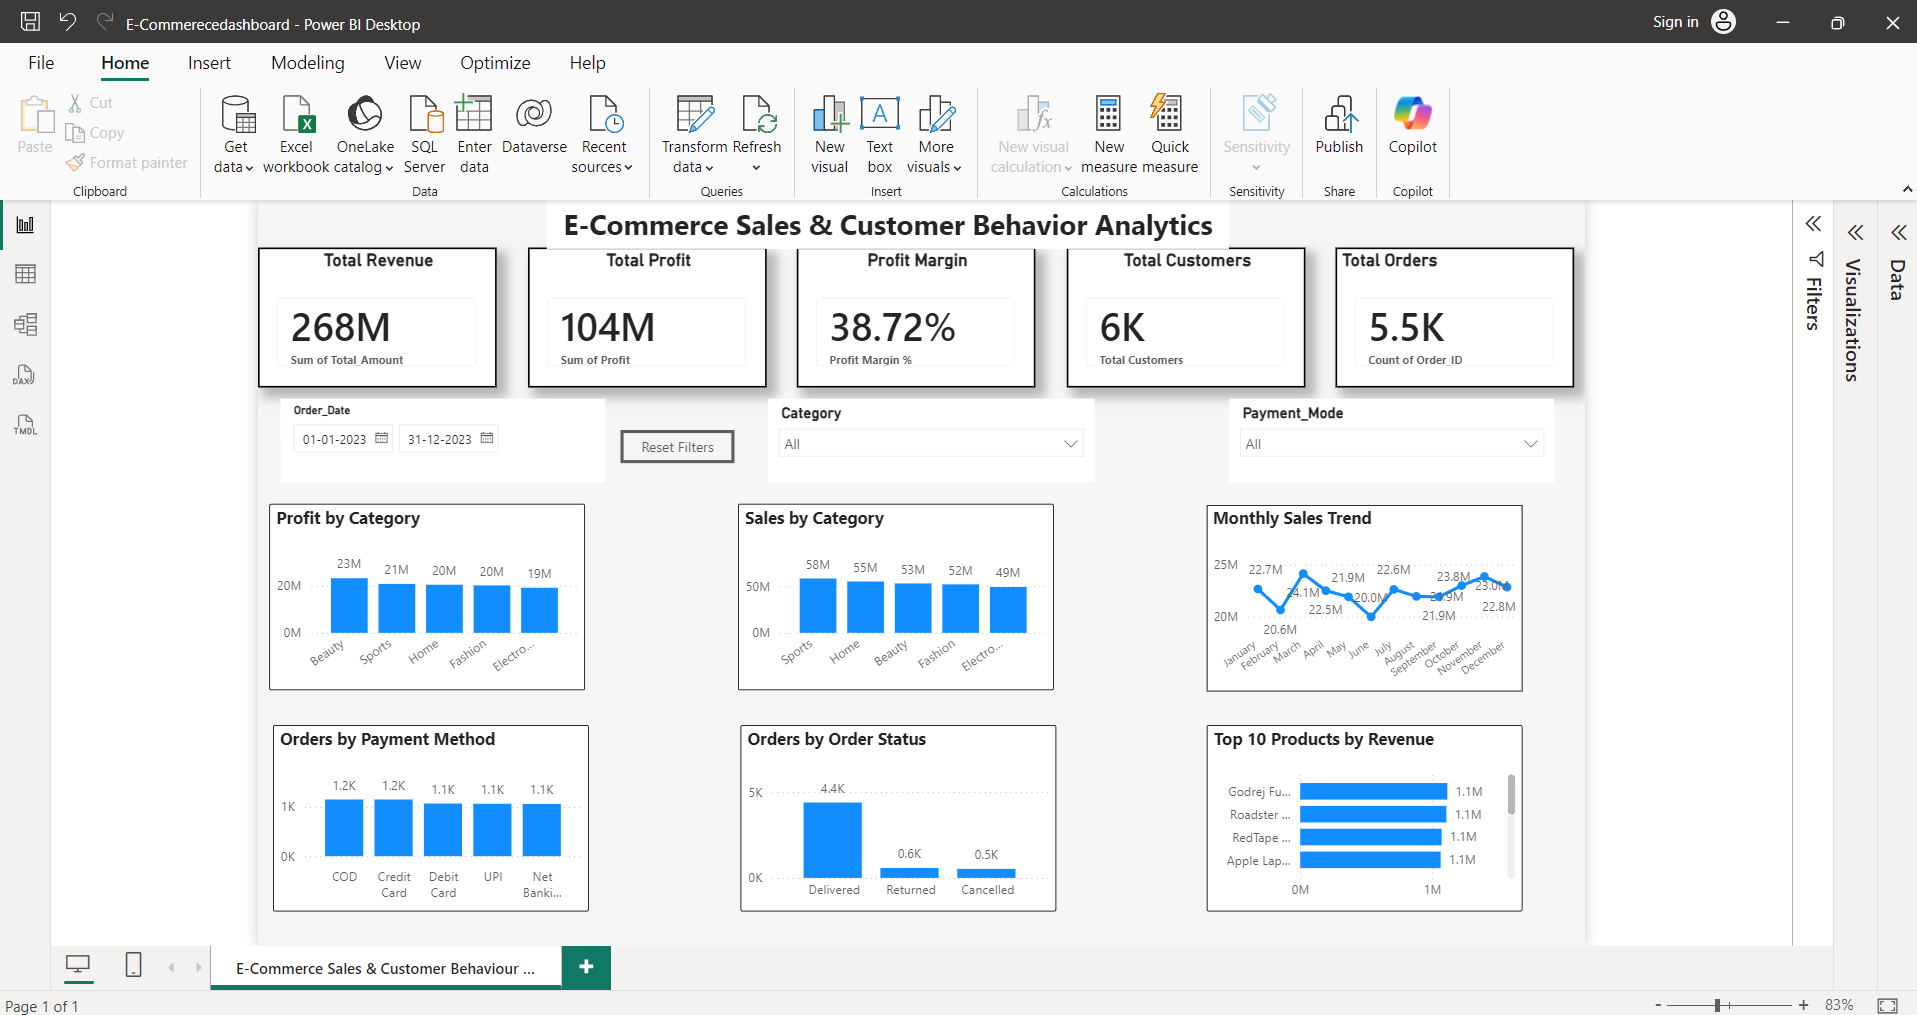

Layout of this report page (visuals, bound fields, positions):
{"tool":"powerbi","page":{"name":"E-Commerce Sales & Customer Behaviour Analytics","canvas":[1280,720],"ordinal":0},"visuals":[{"type":"cardVisual","title":"Total Revenue","fields":{"Data":["Sum(ecommerce_final_data.Total_Amount)"]},"box":[0,45.8,230,135],"z":0},{"type":"cardVisual","title":"Total Profit","fields":{"Data":["Sum(ecommerce_final_data.Profit)"]},"box":[260,45.8,230,135],"z":1000},{"type":"cardVisual","title":"Total Orders","fields":{"Data":["Count(ecommerce_final_data.Order_ID)"]},"box":[1040,45.8,230,135],"z":2000},{"type":"cardVisual","title":"Total Customers","fields":{"Data":["ecommerce_final_data.Total Customers"]},"box":[780,45.8,230,135],"z":3000},{"type":"cardVisual","title":"Profit Margin","fields":{"Data":["ecommerce_final_data.profit margin %"]},"box":[520,45.8,230,135],"z":4000},{"type":"clusteredColumnChart","title":"Sales by Category","fields":{"Category":["ecommerce_final_data.Category"],"Y":["Sum(ecommerce_final_data.Total_Amount)"]},"box":[463.3,293.2,305,180],"z":5000},{"type":"clusteredColumnChart","title":"Profit by Category","fields":{"Category":["ecommerce_final_data.Category"],"Y":["Sum(ecommerce_final_data.Profit)"]},"box":[10.9,293.2,305,180],"z":6000},{"type":"lineChart","title":"Monthly Sales Trend","fields":{"Y":["Sum(ecommerce_final_data.Total_Amount)"],"Category":["ecommerce_final_data.Month.Variation.Date Hierarchy.Month"]},"box":[915.7,294.4,305,180],"z":7000},{"type":"clusteredColumnChart","title":"Orders by Payment Method","fields":{"Category":["ecommerce_final_data.Payment_Mode"],"Y":["CountNonNull(ecommerce_final_data.Order_ID)"]},"box":[14.5,506.7,305,180],"z":8000},{"type":"clusteredColumnChart","title":"Orders by Order Status","fields":{"Category":["ecommerce_final_data.Order_Status"],"Y":["CountNonNull(ecommerce_final_data.Order_ID)"]},"box":[465.1,506.7,305,180],"z":9000},{"type":"clusteredBarChart","title":"Top 10 Products by Revenue","fields":{"Category":["ecommerce_final_data.Product_Name"],"Y":["Sum(ecommerce_final_data.Total_Amount)"]},"box":[915.7,506.7,305,180],"z":10000},{"type":"slicer","fields":{"Values":["ecommerce_final_data.Order_Date"]},"box":[21.7,191.8,313.7,80.8],"z":11000},{"type":"slicer","fields":{"Values":["ecommerce_final_data.Category"]},"box":[492.2,191.8,314.9,80.8],"z":12000},{"type":"slicer","fields":{"Values":["ecommerce_final_data.Payment_Mode"]},"box":[937.4,191.8,313.7,80.8],"z":13000},{"type":"textbox","box":[278.7,0,658.7,47.1],"z":14000},{"type":"actionButton","box":[349.9,222,110,32],"z":15000}]}

Visuals, with their boxes on the page's 1280x720 design canvas (x1, y1, x2, y2). These are canvas units, not pixel positions in the 1917x1015 screenshot, which may show the page scaled, cropped or inside an application window:
"Total Revenue" cardVisual: [left=0, top=46, right=230, bottom=181]
"Total Profit" cardVisual: [left=260, top=46, right=490, bottom=181]
"Total Orders" cardVisual: [left=1040, top=46, right=1270, bottom=181]
"Total Customers" cardVisual: [left=780, top=46, right=1010, bottom=181]
"Profit Margin" cardVisual: [left=520, top=46, right=750, bottom=181]
"Sales by Category" clusteredColumnChart: [left=463, top=293, right=768, bottom=473]
"Profit by Category" clusteredColumnChart: [left=11, top=293, right=316, bottom=473]
"Monthly Sales Trend" lineChart: [left=916, top=294, right=1221, bottom=474]
"Orders by Payment Method" clusteredColumnChart: [left=14, top=507, right=320, bottom=687]
"Orders by Order Status" clusteredColumnChart: [left=465, top=507, right=770, bottom=687]
"Top 10 Products by Revenue" clusteredBarChart: [left=916, top=507, right=1221, bottom=687]
slicer - ecommerce_final_data.Order_Date: [left=22, top=192, right=335, bottom=273]
slicer - ecommerce_final_data.Category: [left=492, top=192, right=807, bottom=273]
slicer - ecommerce_final_data.Payment_Mode: [left=937, top=192, right=1251, bottom=273]
textbox: [left=279, top=0, right=937, bottom=47]
actionButton: [left=350, top=222, right=460, bottom=254]
